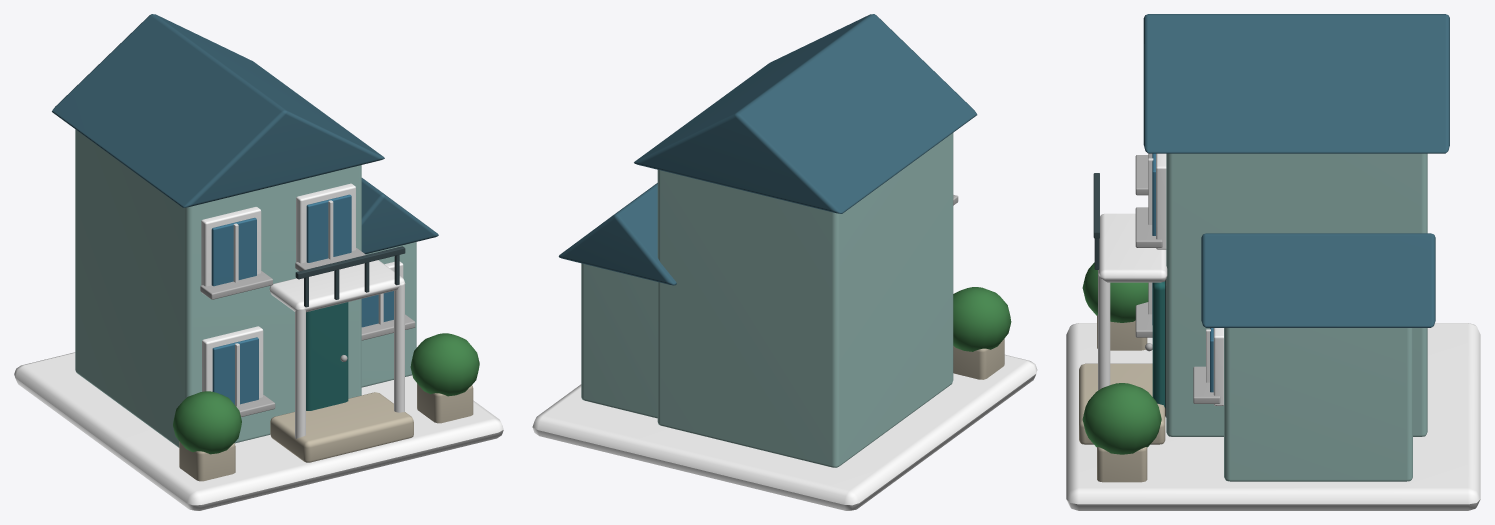
Rendered from big-house.glb.
3 views of the same model, side by side, from view 1: azimuth 30°, elevation 25°; view 2: azimuth 150°, elevation 25°; view 3: azimuth 270°, elevation 25° (orthographic). The views are drawn at different scales.
Parts seen in each view (by area): view 1: Batch_Sage blue plaster_, Batch_Blue slate roof_, Batch_Porcelain_, Batch_Warm stone_, Batch_Blue windows_, Batch_Leaves_, Door, Batch_Stone_, Batch_Dark metal_, Batch_Chalk_; view 2: Batch_Sage blue plaster_, Batch_Blue slate roof_, Batch_Porcelain_, Batch_Leaves_, Batch_Warm stone_; view 3: Batch_Blue slate roof_, Batch_Sage blue plaster_, Batch_Porcelain_, Batch_Leaves_, Batch_Warm stone_, Batch_Stone_, Door, Batch_Chalk_, Batch_Dark metal_, Batch_Blue windows_.
Part boxes in pixels (<box>): Batch_Sage blue plaster_: <box>75,129,416,447</box>; Batch_Blue slate roof_: <box>52,14,438,254</box>; Batch_Porcelain_: <box>14,183,503,510</box>; Batch_Warm stone_: <box>179,383,473,481</box>; Batch_Blue windows_: <box>211,194,393,404</box>; Batch_Leaves_: <box>173,333,479,454</box>; Door: <box>306,302,348,410</box>; Batch_Stone_: <box>200,248,415,416</box>; Batch_Dark metal_: <box>295,246,405,307</box>; Batch_Chalk_: <box>233,200,383,406</box>; Batch_Sage blue plaster_: <box>581,133,953,467</box>; Batch_Blue slate roof_: <box>558,14,977,285</box>; Batch_Porcelain_: <box>532,354,1037,510</box>; Batch_Leaves_: <box>953,287,1011,351</box>; Batch_Warm stone_: <box>953,338,1004,379</box>; Batch_Blue slate roof_: <box>1143,14,1449,327</box>; Batch_Sage blue plaster_: <box>1166,153,1427,481</box>; Batch_Porcelain_: <box>1066,153,1480,510</box>; Batch_Leaves_: <box>1082,262,1161,454</box>; Batch_Warm stone_: <box>1079,315,1165,482</box>; Batch_Stone_: <box>1135,155,1220,403</box>; Door: <box>1152,281,1165,407</box>; Batch_Chalk_: <box>1148,153,1210,382</box>; Batch_Dark metal_: <box>1093,173,1099,269</box>; Batch_Blue windows_: <box>1152,153,1213,392</box>.
Size of the model in its own units: 2.3 by 2.43 by 2.3.
